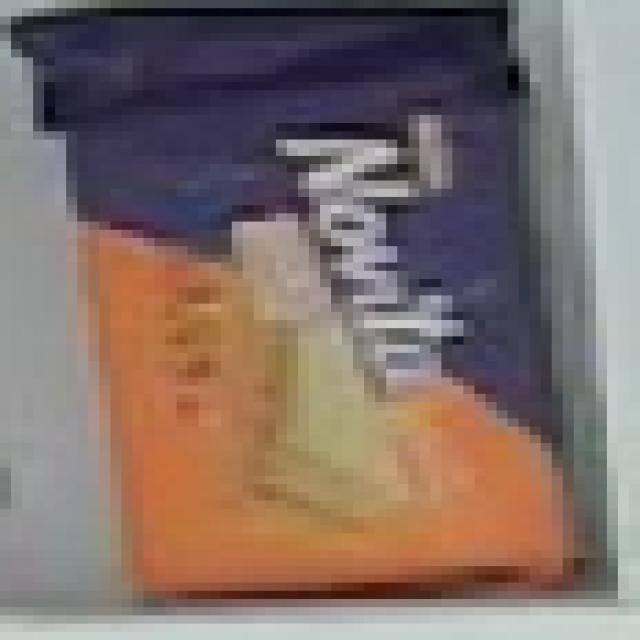Plastic: (8, 1, 608, 606)
